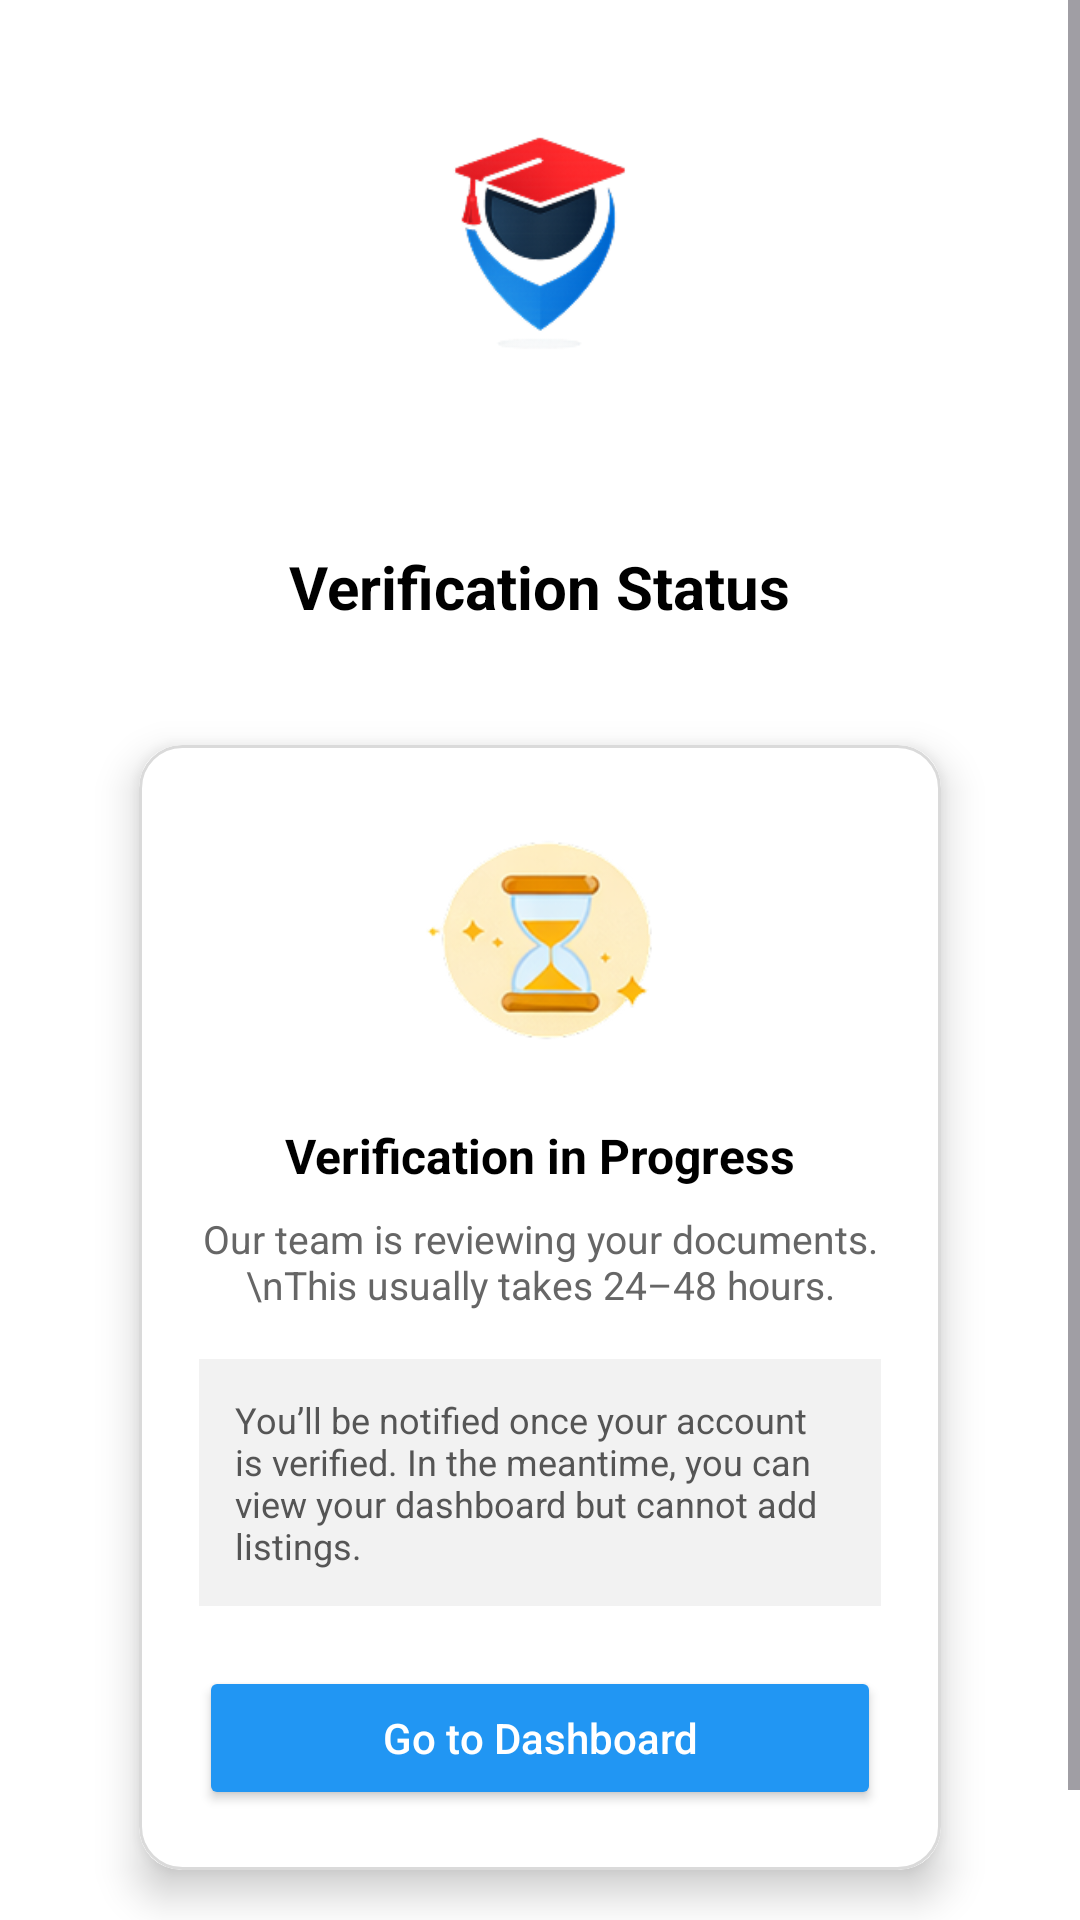

Icon click points for this 1080px×1920px phone screenshot, format (x,y):
verification pending: (539,940)
